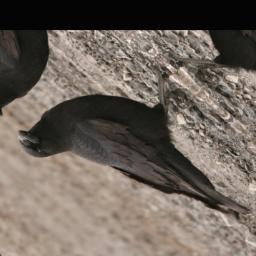Crow: (8, 42, 256, 256)
